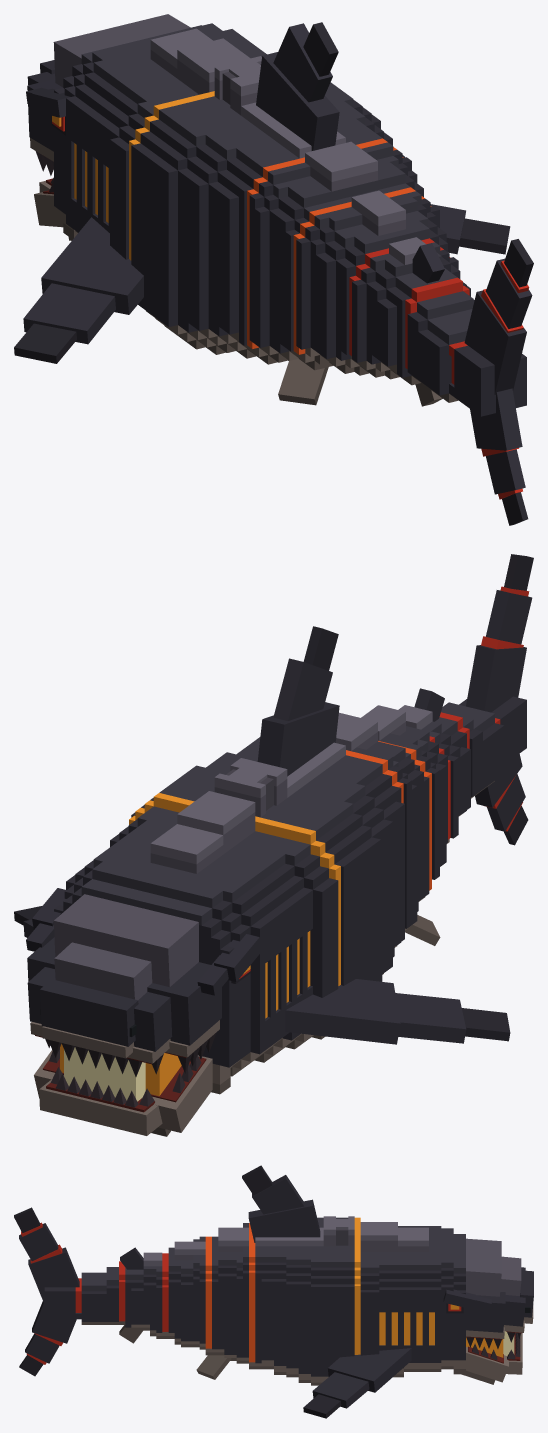
Rendered from MoltenMegalodon.obj.
3 renders of one model, top to bottom at view 1: azimuth 30°, elevation 25°; view 2: azimuth 150°, elevation 25°; view 3: azimuth 270°, elevation 25°, orthographic. The views are drawn at different scales.
Parts seen in each view (by area): view 1: S2, S1, S3, S4, Tail, S5, Head, S6, Jaw; view 2: Head, S1, S2, Tail, Jaw, S3, S4, S5, S6; view 3: S2, S1, Head, S3, Tail, S4, S5, S6, Jaw.
Boxes of the visible parts, x1,y1,x2,y2 form: S2: (129, 22, 404, 360); S1: (14, 28, 510, 363); S3: (247, 138, 423, 405); S4: (293, 187, 447, 375); Tail: (449, 239, 533, 525); S5: (349, 237, 470, 406); Head: (26, 14, 222, 239); S6: (405, 277, 474, 402); Jaw: (34, 177, 72, 240); Head: (26, 861, 261, 1101); S1: (14, 791, 510, 1076); S2: (129, 626, 404, 1039); Tail: (459, 554, 533, 845); Jaw: (34, 1048, 212, 1136); S3: (335, 712, 440, 947); S4: (361, 705, 447, 900); S5: (398, 688, 470, 843); S6: (439, 702, 504, 798); S2: (242, 1165, 360, 1385); S1: (303, 1222, 441, 1418); Head: (441, 1228, 533, 1374); S3: (196, 1223, 255, 1379); Tail: (14, 1207, 81, 1376); S4: (168, 1236, 211, 1355); S5: (119, 1247, 168, 1343); S6: (81, 1261, 125, 1324); Jaw: (461, 1333, 522, 1384).
Bounding box in the file's own units: 26.89 × 18.62 × 41.95.
1 material, 1 textured.
